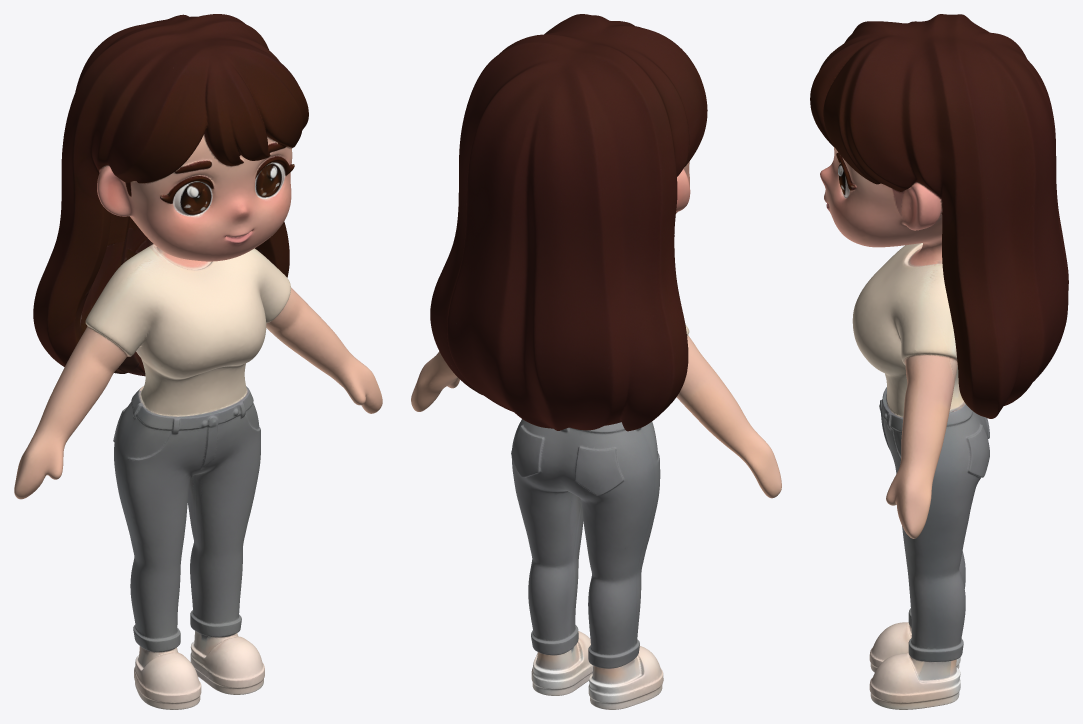
The model's file is char_jachwi_f_base.glb.
The picture shows the model from 3 angles, left to right: view 1: azimuth 30°, elevation 25°; view 2: azimuth 150°, elevation 25°; view 3: azimuth 270°, elevation 25°; orthographic projection.
Bounding box in the file's own units: 1.13 × 1.9 × 0.686.
1 material, 1 textured.
